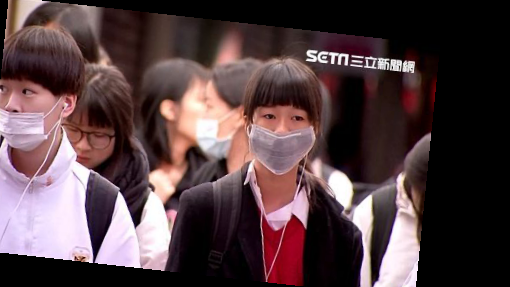mask_weared_incorrect: (1, 23, 87, 167), (239, 60, 333, 174)
